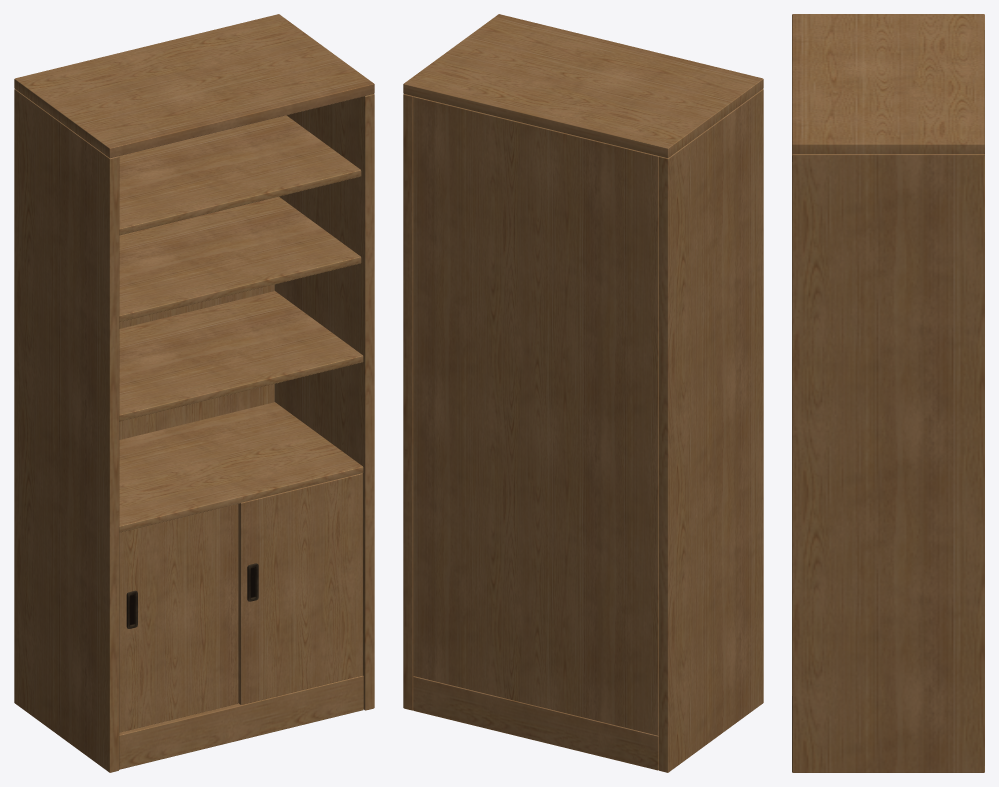
The model's file is Shelf_04_Narrow.FBX.
The picture shows the model from 3 angles, left to right: view 1: azimuth 30°, elevation 25°; view 2: azimuth 150°, elevation 25°; view 3: azimuth 270°, elevation 25°; orthographic projection.
Visible parts, largest first — view 1: Shelf_04_Narrow; view 2: Shelf_04_Narrow; view 3: Shelf_04_Narrow.
Boxes of the visible parts, left/top/right/bottom form: Shelf_04_Narrow: left=14, top=14, right=374, bottom=772; Shelf_04_Narrow: left=403, top=14, right=763, bottom=772; Shelf_04_Narrow: left=792, top=14, right=984, bottom=772.
Bounding box in the file's own units: 80 × 180 × 50.
